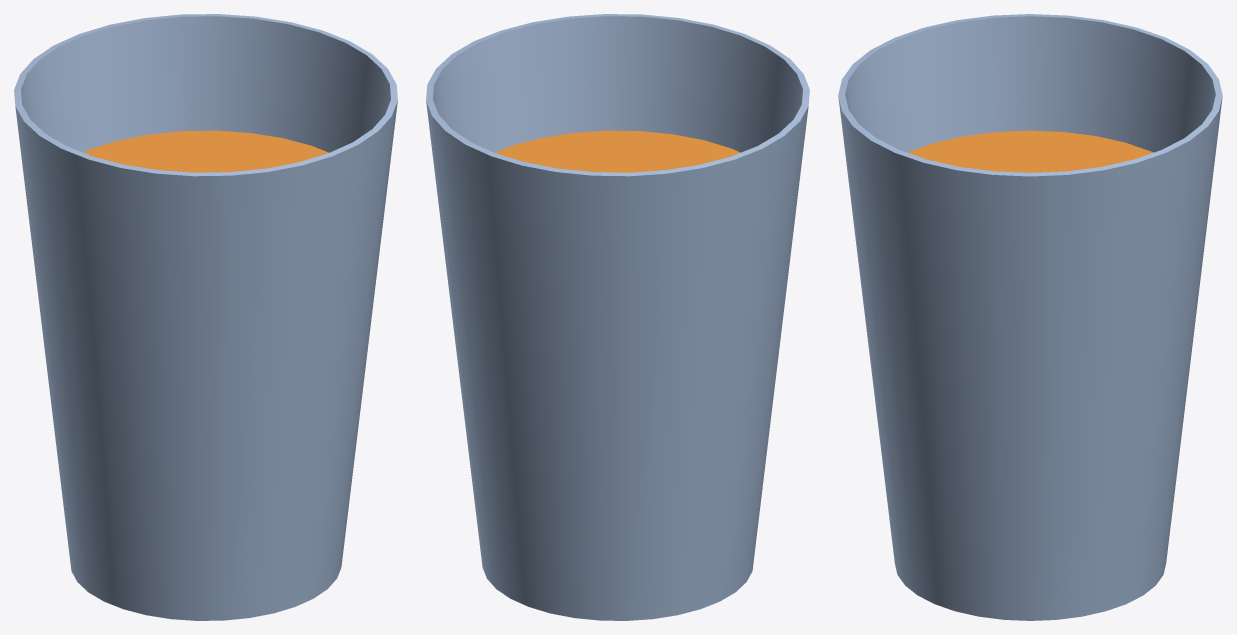
The model's file is VasoDeJugoTest.fbx.
3 renders of one model, left to right at view 1: azimuth 30°, elevation 25°; view 2: azimuth 150°, elevation 25°; view 3: azimuth 270°, elevation 25°, orthographic.
Parts seen in each view (by area): view 1: Baso, Jugo; view 2: Baso, Jugo; view 3: Baso, Jugo.
Part boxes in pixels (x1,y1,x2,y2): Baso: [14, 14, 397, 620]; Jugo: [83, 130, 328, 172]; Baso: [426, 14, 809, 620]; Jugo: [495, 130, 740, 172]; Baso: [838, 14, 1222, 620]; Jugo: [907, 130, 1153, 172].
Size of the model in its own units: 5.56 by 7.49 by 5.56.
